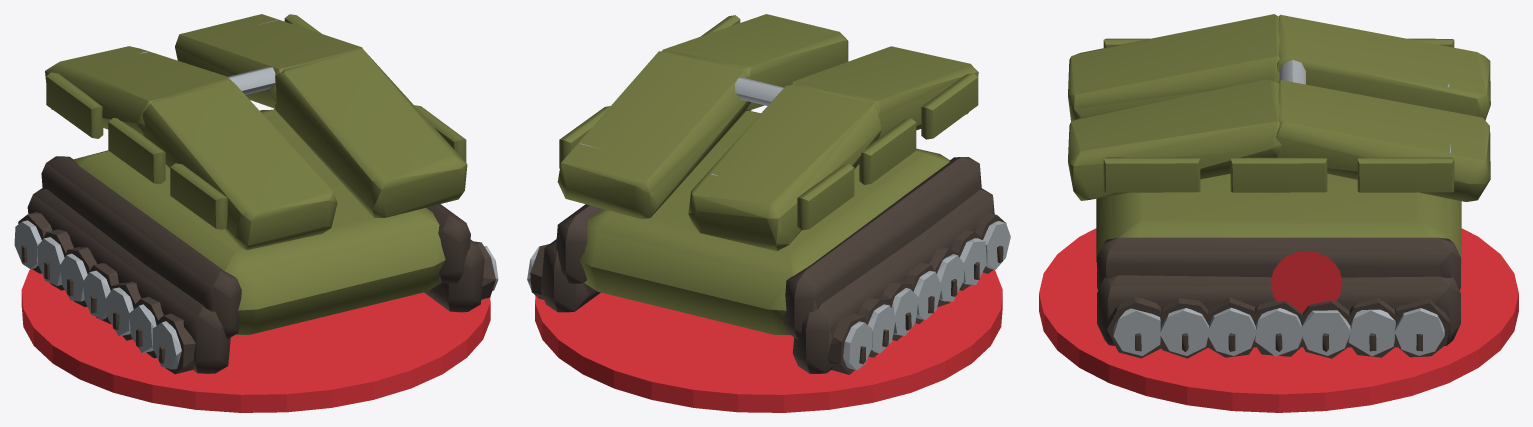
Rendered from japan_engineer_lod0.glb.
3 renders of one model, left to right at view 1: azimuth 30°, elevation 25°; view 2: azimuth 150°, elevation 25°; view 3: azimuth 270°, elevation 25°, orthographic. The views are drawn at different scales.
Visible parts, largest first — view 1: body_hull, base_pedestal; view 2: body_hull, base_pedestal; view 3: body_hull, base_pedestal.
Part boxes in pixels (<box>): body_hull: <box>14,14,498,374</box>; base_pedestal: <box>21,269,490,412</box>; body_hull: <box>527,14,1010,374</box>; base_pedestal: <box>535,269,1002,412</box>; body_hull: <box>1068,14,1490,358</box>; base_pedestal: <box>1039,228,1518,412</box>.
Bounding box in the file's own units: 0.78 × 0.4371 × 0.78.
